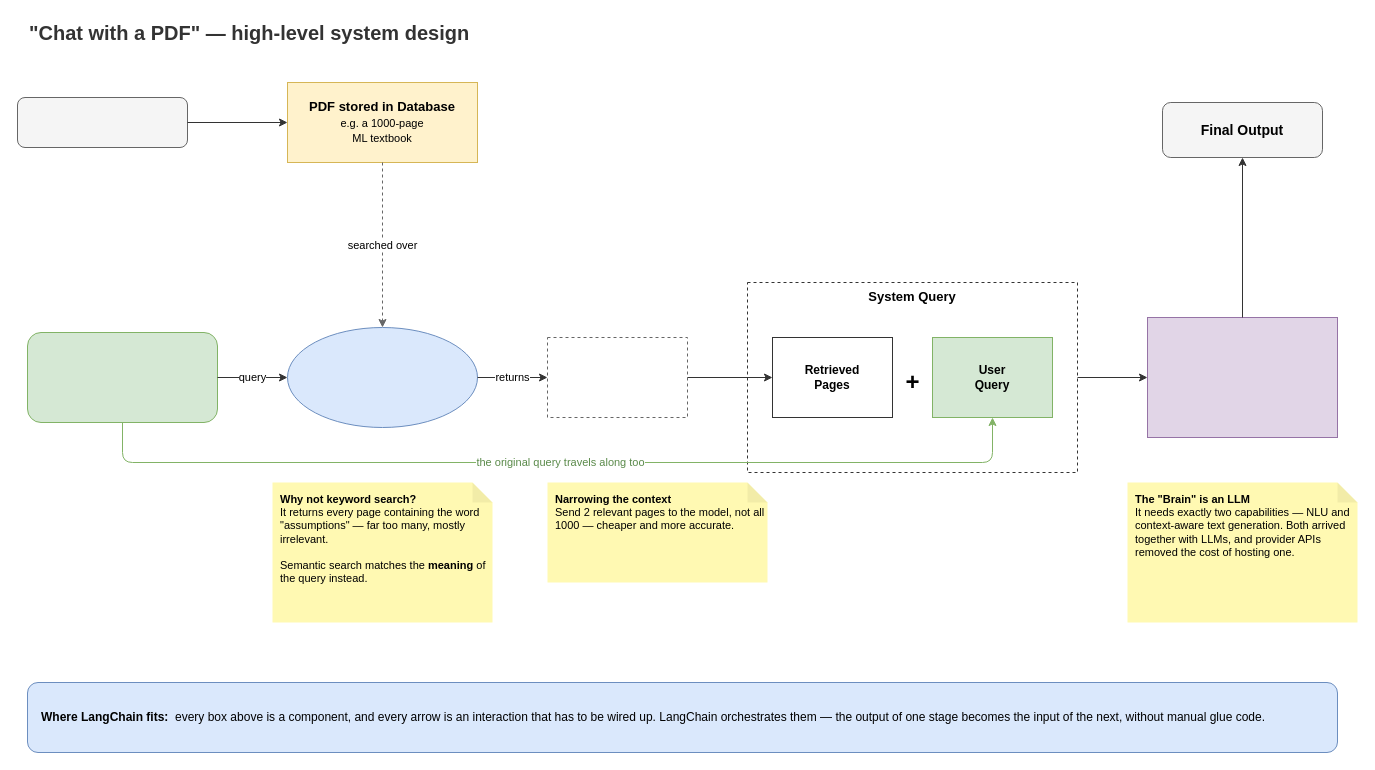
Image size: 1375x770. Some labels were removed from this diagram. The centre of each missing label's shape, as x and y in pixels:
"BRAIN" 1. understand the query (NLU) 2. context-aware text generation: point (1242, 377)
Result relevant pages 372, 461: point (617, 377)
SEMANTIC SEARCH find WHERE in the book this topic is discussed: point (382, 377)
User Query "What are the assumptions of linear regression?": point (122, 377)
User uploads PDF: point (102, 122)
